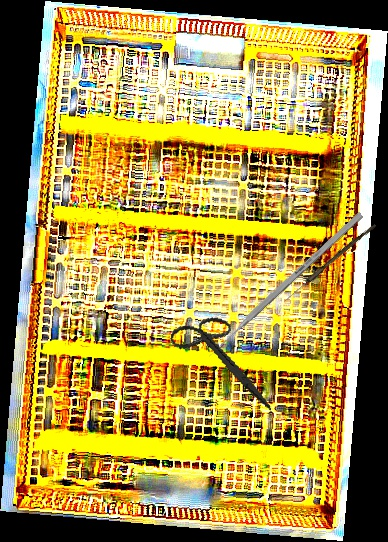Iris Scissors: (159, 308, 289, 411)
Pusher: (206, 211, 364, 359)
Surgical Spoon: (282, 221, 377, 305)
